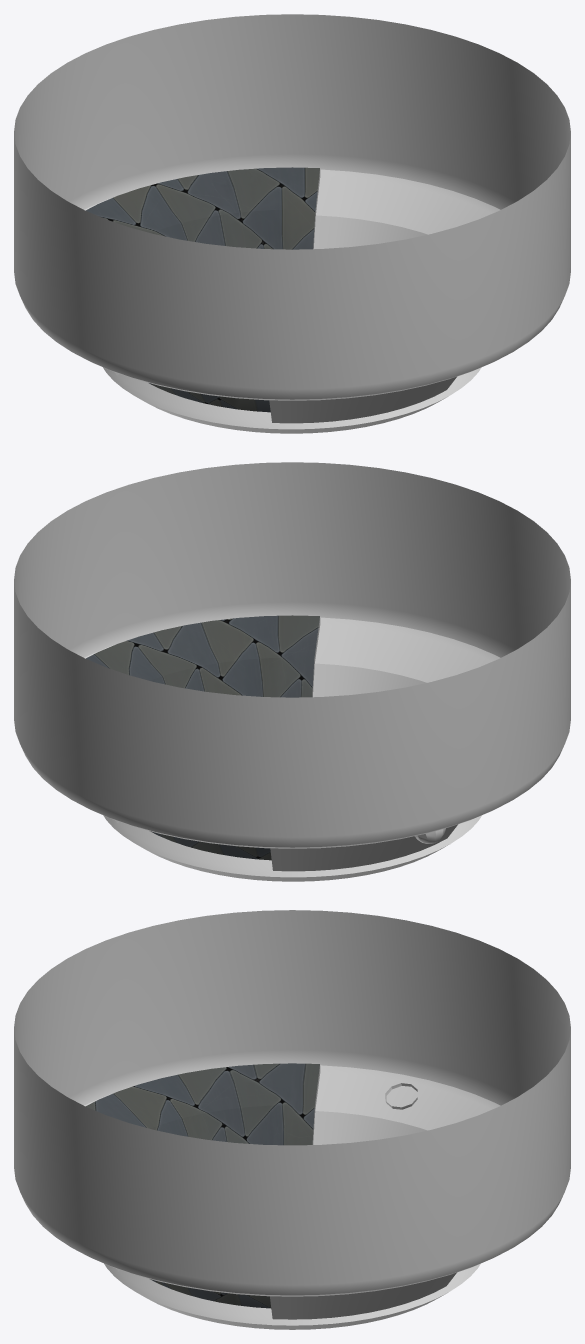
File: SM_FireAlarm.fbx
3 renders of one model, top to bottom at view 1: azimuth 30°, elevation 25°; view 2: azimuth 150°, elevation 25°; view 3: azimuth 270°, elevation 25°, orthographic.
Visible parts, largest first — view 1: SM_FireAlarm_LOD0; view 2: SM_FireAlarm_LOD0; view 3: SM_FireAlarm_LOD0.
Part boxes in pixels (<box>): SM_FireAlarm_LOD0: <box>14,14,570,433</box>; SM_FireAlarm_LOD0: <box>14,462,570,881</box>; SM_FireAlarm_LOD0: <box>14,910,570,1329</box>.
Size of the model in its own units: 29.01 by 29.01 by 12.96.
3 materials, 1 textured.
